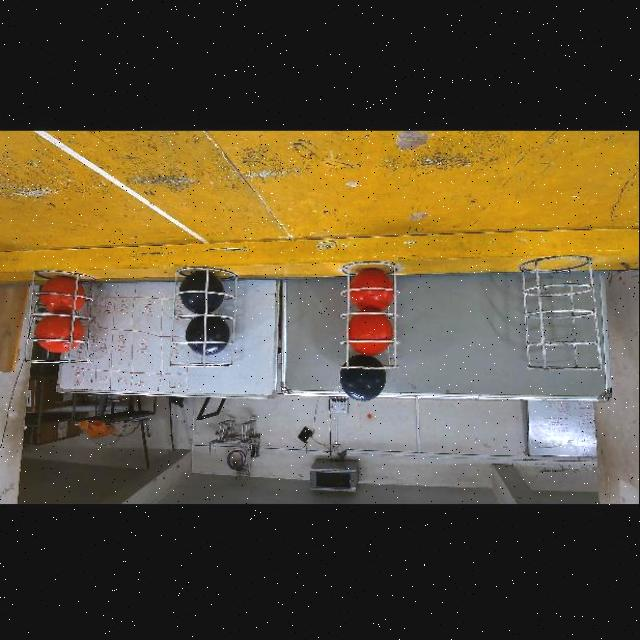P: (341, 356, 388, 402), (178, 271, 224, 315), (185, 316, 230, 356)
R: (346, 313, 395, 357), (40, 275, 87, 315), (351, 269, 395, 311), (38, 316, 86, 354)
S: (526, 257, 598, 371), (337, 263, 399, 371), (172, 270, 240, 366), (32, 270, 88, 370)
